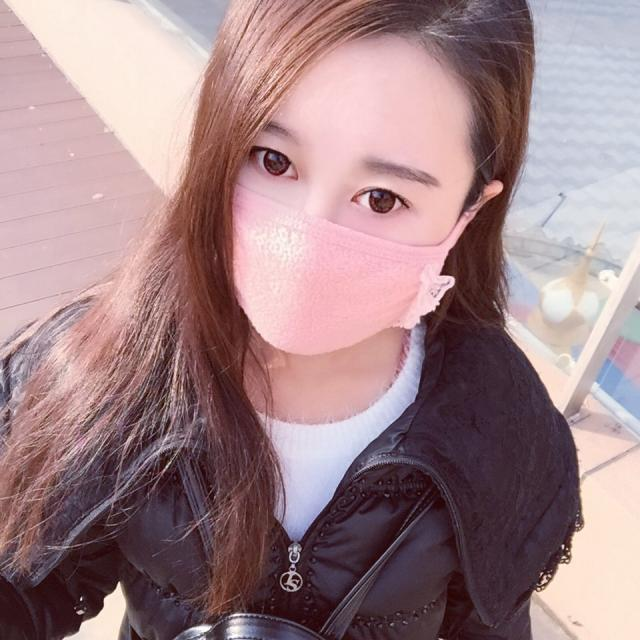mask: (220, 37, 463, 355)
